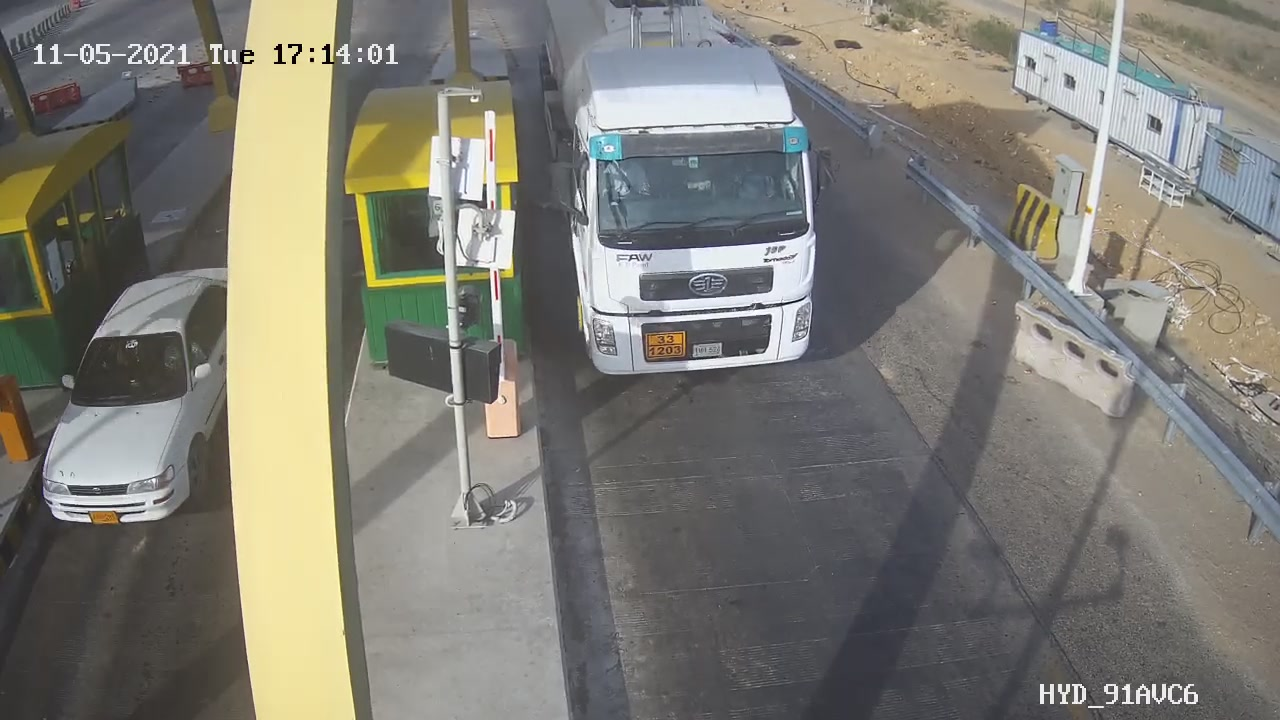F6: (517, 1, 866, 392)
